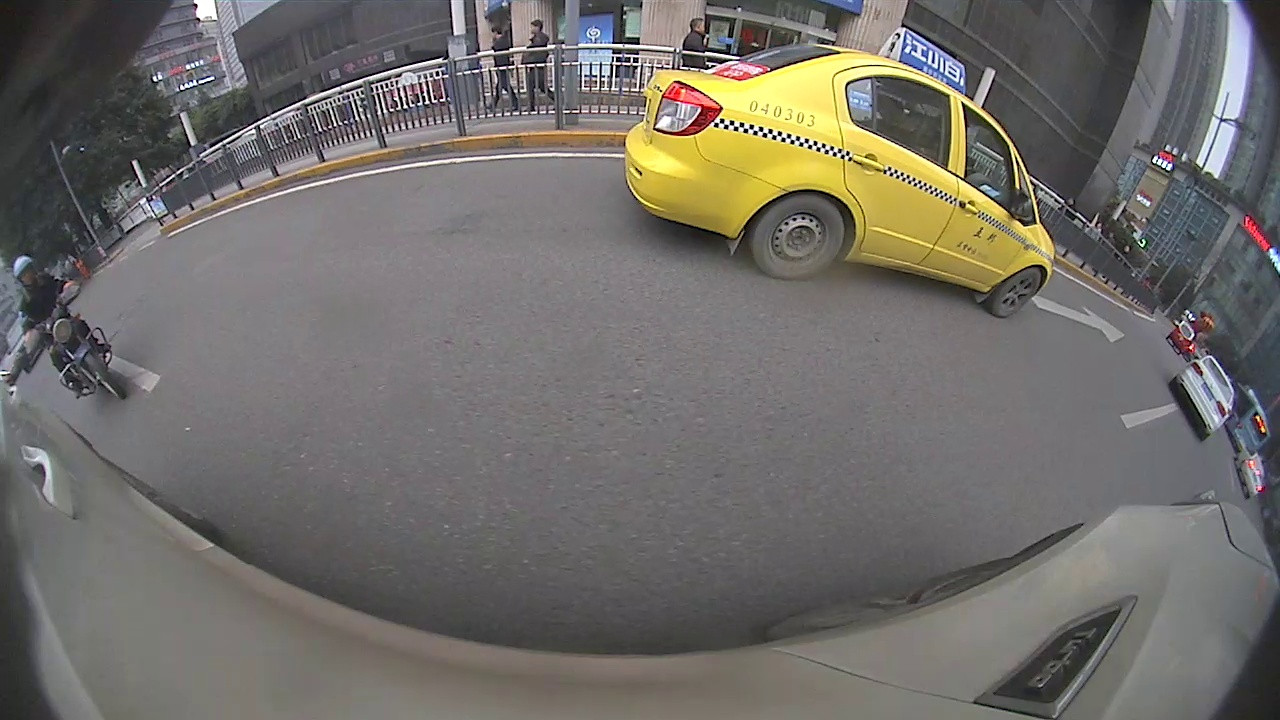car: (623, 26, 1057, 319), (1170, 353, 1237, 441)
front: (991, 266, 1044, 317), (76, 352, 123, 401)
person: (526, 18, 547, 110), (491, 25, 510, 111)
rear: (757, 196, 848, 280)
rider: (10, 254, 130, 404)
